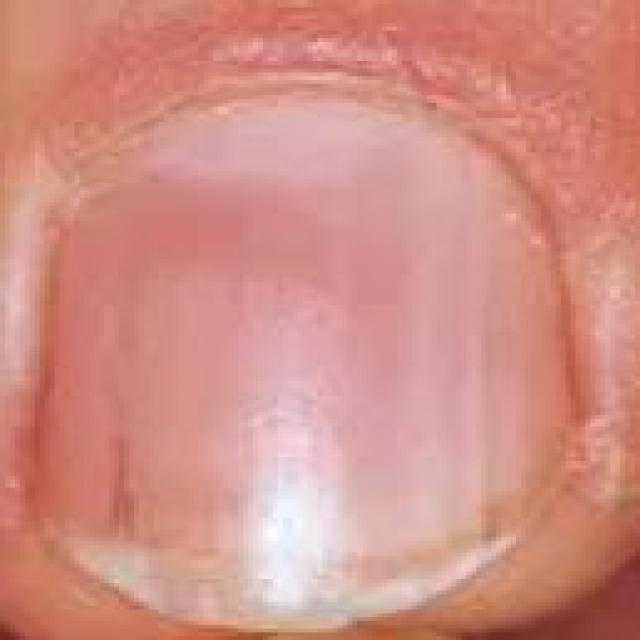Nail: (32, 91, 579, 633)
